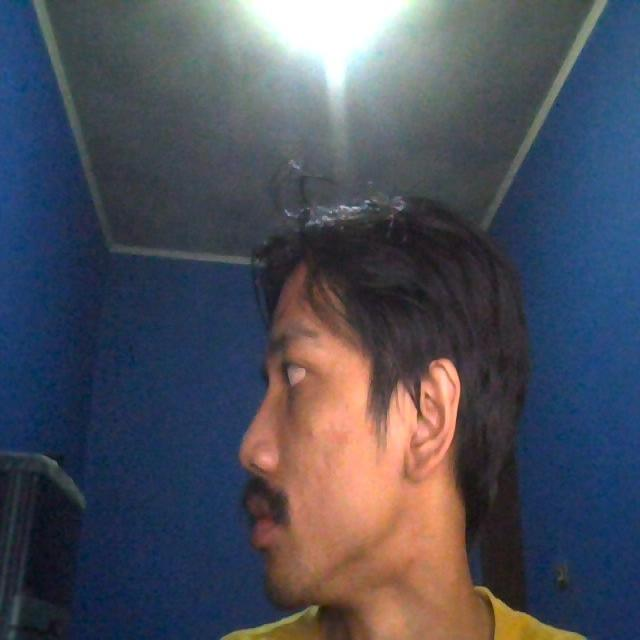Melihat kekanan: (182, 225, 558, 597)
